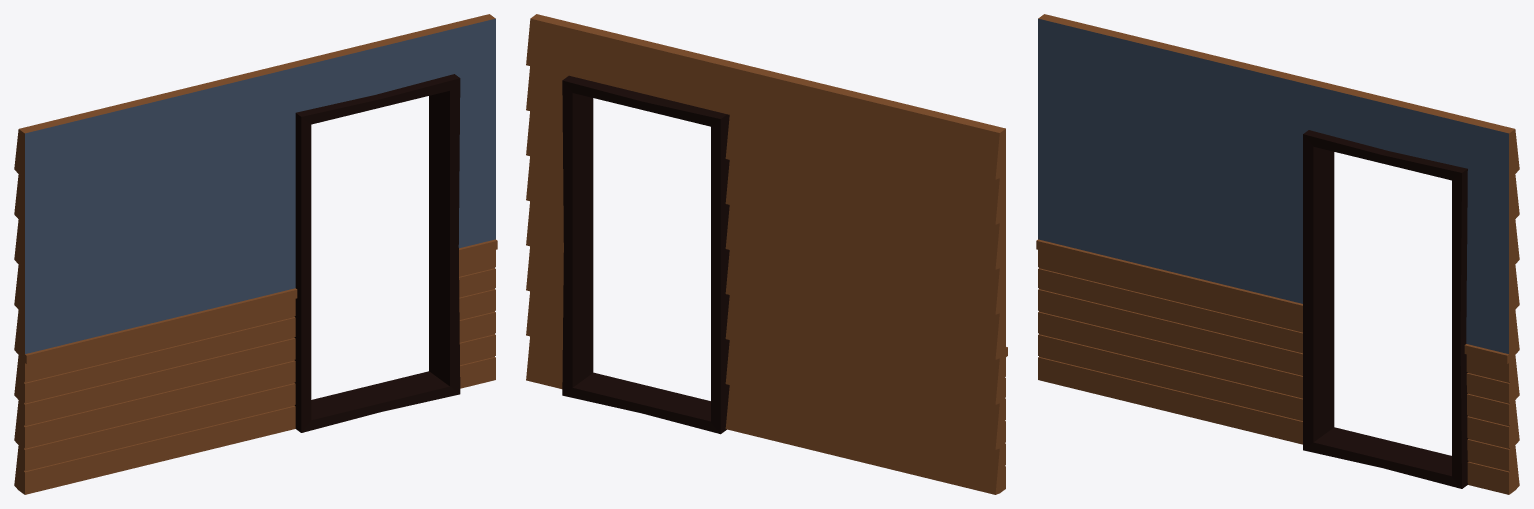
Rendered from ww_wall_door_e.glb.
3 renders of one model, left to right at view 1: azimuth 30°, elevation 25°; view 2: azimuth 150°, elevation 25°; view 3: azimuth 330°, elevation 25°, orthographic.
Visible parts, largest first — view 1: Wall_Door_E; view 2: Wall_Door_E; view 3: Wall_Door_E.
Boxes of the visible parts, left/top/right/bottom form: Wall_Door_E: left=14, top=14, right=497, bottom=494; Wall_Door_E: left=526, top=14, right=1007, bottom=494; Wall_Door_E: left=1036, top=14, right=1519, bottom=494.
Size of the model in its own units: 4.8 by 3.52 by 0.3744.
